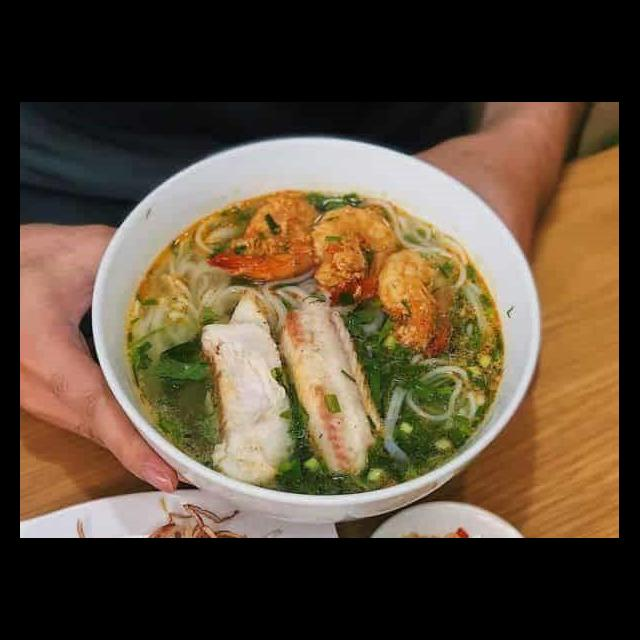bun: (112, 211, 225, 354), (374, 351, 482, 472)
bun ca: (72, 151, 531, 505)
ca: (190, 288, 308, 500), (278, 293, 388, 489)
tom: (202, 188, 334, 285), (304, 201, 406, 309), (376, 245, 462, 361)
